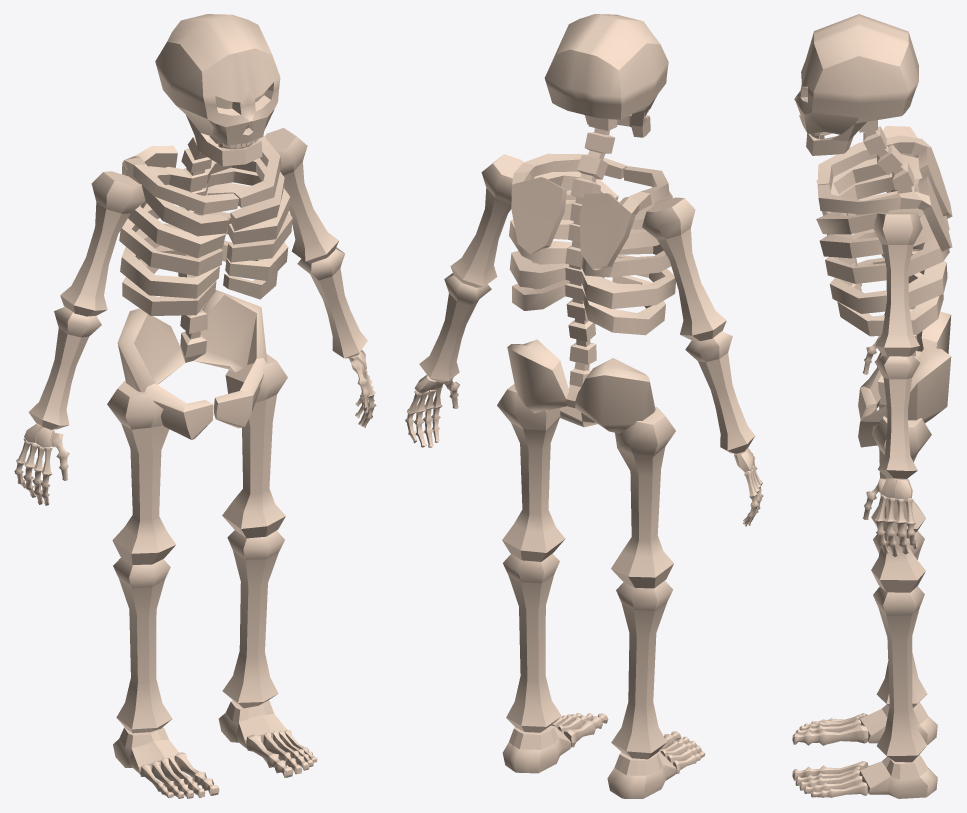
The model's file is skeleton_v02.obj.
3 views of the same model, side by side, from view 1: azimuth 30°, elevation 25°; view 2: azimuth 150°, elevation 25°; view 3: azimuth 270°, elevation 25° (orthographic).
Parts seen in each view (by area): view 1: skeleton_GRP body, skull skeleton_GRP, skeleton_GRP legs leg_upper_L2 leg_R, skeleton_GRP legs leg_R leg_lower_L2, skeleton_GRP leg_L legs leg_lower_L, skeleton_GRP leg_upper_L leg_L legs, skeleton_GRP arms arm_upper_R arm_R, skeleton_GRP collarbones, skeleton_GRP arm_upper_L arm_L arms, skeleton_GRP arms arm_R arm_lower_R, skeleton_GRP arm_L arms arm_lower_L, skeleton_GRP legs leg_R foot_R foot_heel_L2 (+3 smaller); view 2: skeleton_GRP body, skull skeleton_GRP, skeleton_GRP collarbones, skeleton_GRP legs leg_upper_L2 leg_R, skeleton_GRP leg_upper_L leg_L legs, skeleton_GRP leg_L legs leg_lower_L, skeleton_GRP legs leg_R leg_lower_L2, skeleton_GRP arms arm_upper_R arm_R, skeleton_GRP arm_upper_L arm_L arms, skeleton_GRP arms arm_R arm_lower_R, skeleton_GRP arm_L arms arm_lower_L, skeleton_GRP leg_L legs foot_heel_L foot_L (+1 smaller); view 3: skeleton_GRP body, skull skeleton_GRP, skeleton_GRP collarbones, skeleton_GRP leg_L legs leg_lower_L, skeleton_GRP arm_upper_L arm_L arms, skeleton_GRP arm_L arms arm_lower_L, skeleton_GRP leg_upper_L leg_L legs, skeleton_GRP leg_L legs foot_heel_L foot_L, skeleton_GRP legs leg_R foot_R foot_heel_L2, skeleton_GRP legs leg_R leg_lower_L2, skeleton_GRP legs leg_R foot_R foot_toe_01_L2, skeleton_GRP legs leg_upper_L2 leg_R (+13 smaller).
Boxes of the visible parts, box(x1,y1,x2,y2) form: skeleton_GRP body: box(117, 135, 292, 439); skull skeleton_GRP: box(155, 14, 280, 166); skeleton_GRP legs leg_upper_L2 leg_R: box(107, 380, 175, 564); skeleton_GRP legs leg_R leg_lower_L2: box(113, 557, 172, 733); skeleton_GRP leg_L legs leg_lower_L: box(222, 530, 284, 708); skeleton_GRP leg_upper_L leg_L legs: box(222, 354, 287, 538); skeleton_GRP arms arm_upper_R arm_R: box(60, 171, 145, 316); skeleton_GRP collarbones: box(122, 135, 281, 214); skeleton_GRP arm_upper_L arm_L arms: box(264, 128, 338, 263); skeleton_GRP arms arm_R arm_lower_R: box(28, 306, 101, 429); skeleton_GRP arm_L arms arm_lower_L: box(297, 247, 367, 358); skeleton_GRP legs leg_R foot_R foot_heel_L2: box(113, 727, 178, 773); skeleton_GRP body: box(507, 116, 675, 433); skull skeleton_GRP: box(544, 14, 668, 137); skeleton_GRP collarbones: box(511, 153, 669, 270); skeleton_GRP legs leg_upper_L2 leg_R: box(611, 407, 675, 588); skeleton_GRP leg_upper_L leg_L legs: box(497, 384, 565, 561); skeleton_GRP leg_L legs leg_lower_L: box(503, 553, 561, 732); skeleton_GRP legs leg_R leg_lower_L2: box(611, 580, 673, 759); skeleton_GRP arms arm_upper_R arm_R: box(642, 197, 726, 340); skeleton_GRP arm_upper_L arm_L arms: box(450, 154, 523, 287); skeleton_GRP arms arm_R arm_lower_R: box(685, 331, 754, 453); skeleton_GRP arm_L arms arm_lower_L: box(419, 273, 491, 382); skeleton_GRP leg_L legs foot_heel_L foot_L: box(502, 725, 570, 773); skeleton_GRP body: box(816, 120, 951, 447); skull skeleton_GRP: box(794, 14, 918, 155); skeleton_GRP collarbones: box(817, 135, 952, 251); skeleton_GRP leg_L legs leg_lower_L: box(873, 586, 927, 762); skeleton_GRP arm_upper_L arm_L arms: box(873, 212, 922, 356); skeleton_GRP arm_L arms arm_lower_L: box(875, 355, 919, 478); skeleton_GRP leg_upper_L leg_L legs: box(871, 416, 931, 592); skeleton_GRP leg_L legs foot_heel_L foot_L: box(859, 755, 937, 798); skeleton_GRP legs leg_R foot_R foot_heel_L2: box(860, 702, 937, 744); skeleton_GRP legs leg_R leg_lower_L2: box(873, 531, 927, 707); skeleton_GRP legs leg_R foot_R foot_toe_01_L2: box(792, 725, 868, 745); skeleton_GRP legs leg_upper_L2 leg_R: box(871, 374, 925, 538).
Size of the model in its own units: 104 by 207 by 40.47.
